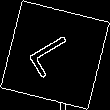L_NE: (25, 29, 85, 81)
